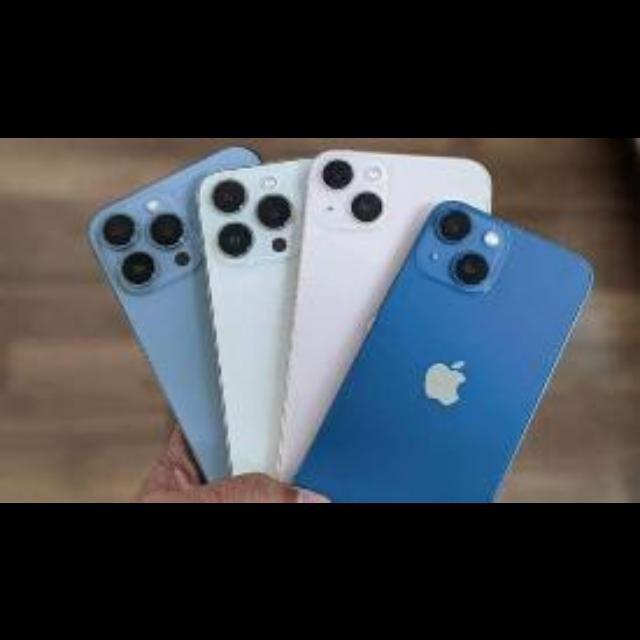Phone: (313, 201, 589, 501), (85, 146, 268, 482)
